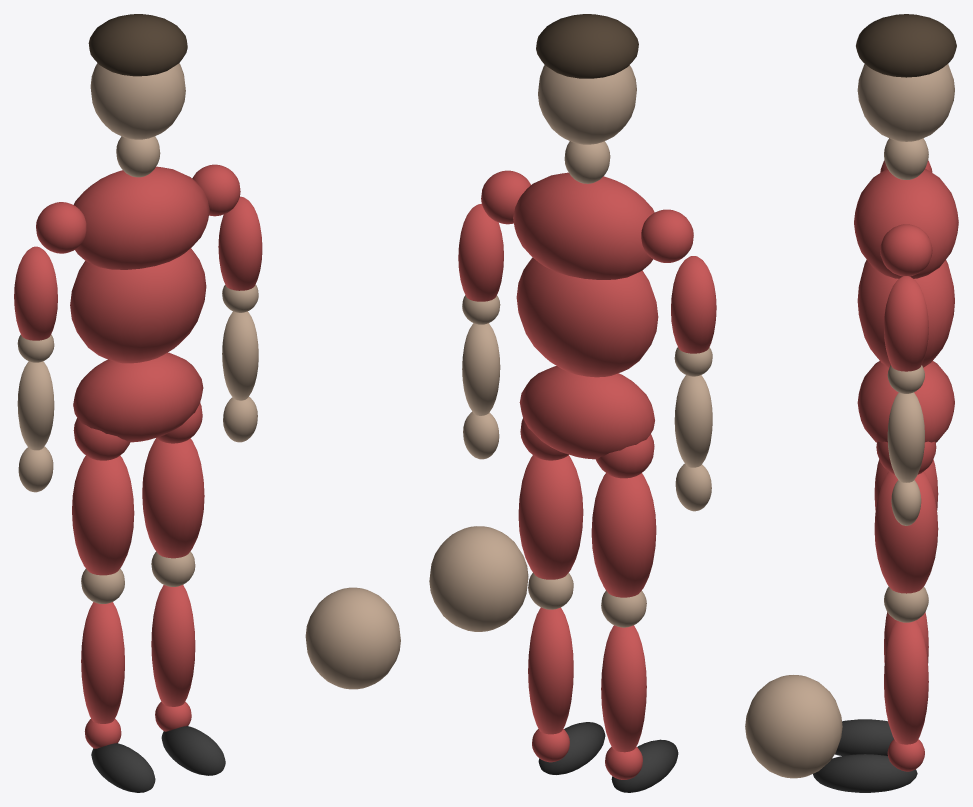
The model's file is player.glb.
3 renders of one model, left to right at view 1: azimuth 30°, elevation 25°; view 2: azimuth 150°, elevation 25°; view 3: azimuth 270°, elevation 25°, orthographic. The views are drawn at different scales.
Parts seen in each view (by area): view 1: Spine, Chest, Hips, Ball, Thigh_L, Thigh_R, Head, Hair, Shin_L, Shin_R, UpperArm_R, UpperArm_L (+17 smaller); view 2: Spine, Chest, Hips, Ball, Thigh_L, Thigh_R, Head, Hair, Shin_L, Shin_R, UpperArm_R, UpperArm_L (+17 smaller); view 3: Ball, Chest, Head, Thigh_L, Hair, Spine, Shin_L, Hips, UpperArm_L, Foot_L, Forearm_L, Shoulder_L (+9 smaller).
Part boxes in pixels (x1=…): Spine: x1=70, y1=248, x2=206, y2=363; Chest: x1=73, y1=166, x2=209, y2=269; Hips: x1=73, y1=352, x2=203, y2=442; Ball: x1=305, y1=587, x2=400, y2=689; Thigh_L: x1=142, y1=438, x2=204, y2=558; Thigh_R: x1=72, y1=455, x2=134, y2=575; Head: x1=90, y1=63, x2=185, y2=139; Hair: x1=88, y1=14, x2=187, y2=76; Shin_L: x1=151, y1=585, x2=195, y2=706; Shin_R: x1=81, y1=602, x2=124, y2=723; UpperArm_R: x1=14, y1=246, x2=57, y2=340; UpperArm_L: x1=218, y1=196, x2=262, y2=290; Spine: x1=516, y1=257, x2=658, y2=377; Chest: x1=513, y1=172, x2=654, y2=279; Hips: x1=519, y1=366, x2=654, y2=459; Ball: x1=429, y1=526, x2=528, y2=631; Thigh_L: x1=518, y1=455, x2=583, y2=579; Thigh_R: x1=591, y1=473, x2=656, y2=597; Head: x1=538, y1=65, x2=636, y2=144; Hair: x1=536, y1=14, x2=638, y2=78; Shin_L: x1=528, y1=607, x2=573, y2=734; Shin_R: x1=601, y1=625, x2=646, y2=752; UpperArm_R: x1=671, y1=256, x2=716, y2=353; UpperArm_L: x1=458, y1=204, x2=503, y2=301; Ball: x1=745, y1=675, x2=842, y2=778; Chest: x1=854, y1=168, x2=958, y2=278; Head: x1=857, y1=64, x2=954, y2=141; Thigh_L: x1=874, y1=471, x2=938, y2=593; Hair: x1=856, y1=14, x2=956, y2=77; Spine: x1=857, y1=260, x2=954, y2=367; Shin_L: x1=884, y1=620, x2=928, y2=744; Hips: x1=857, y1=361, x2=954, y2=442; UpperArm_L: x1=884, y1=276, x2=928, y2=371; Foot_L: x1=813, y1=754, x2=917, y2=792; Forearm_L: x1=887, y1=392, x2=924, y2=482; Shoulder_L: x1=880, y1=224, x2=932, y2=276.
Bounding box in the file's own units: 1.01 × 2.21 × 0.57.
